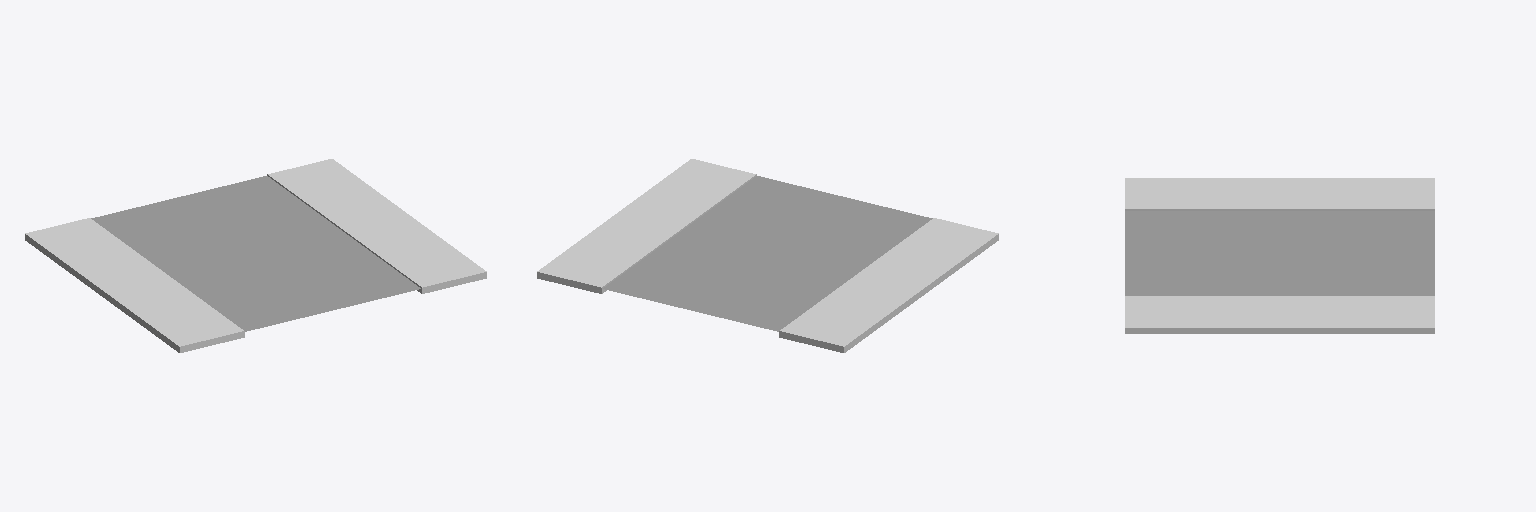
File: Road.obj
3 views of the same model, side by side, from view 1: azimuth 30°, elevation 25°; view 2: azimuth 150°, elevation 25°; view 3: azimuth 270°, elevation 25° (orthographic).
Parts seen in each view (by area): view 1: Mesh4 Mesh5_Model Model, Mesh2 Mesh3_Model Model, Mesh3 Mesh4_Model Model; view 2: Mesh4 Mesh5_Model Model, Mesh2 Mesh3_Model Model, Mesh3 Mesh4_Model Model; view 3: Mesh4 Mesh5_Model Model, Mesh3 Mesh4_Model Model, Mesh2 Mesh3_Model Model.
Part boxes in pixels (x1,y1,x2,y2): Mesh4 Mesh5_Model Model: (91, 176, 420, 331); Mesh2 Mesh3_Model Model: (25, 218, 244, 352); Mesh3 Mesh4_Model Model: (267, 159, 486, 293); Mesh4 Mesh5_Model Model: (603, 176, 932, 331); Mesh2 Mesh3_Model Model: (779, 218, 998, 352); Mesh3 Mesh4_Model Model: (537, 159, 756, 293); Mesh4 Mesh5_Model Model: (1125, 211, 1434, 295); Mesh3 Mesh4_Model Model: (1125, 296, 1434, 333); Mesh2 Mesh3_Model Model: (1125, 178, 1434, 210).
Bounding box in the file's own units: 13.77 × 0.284 × 12.